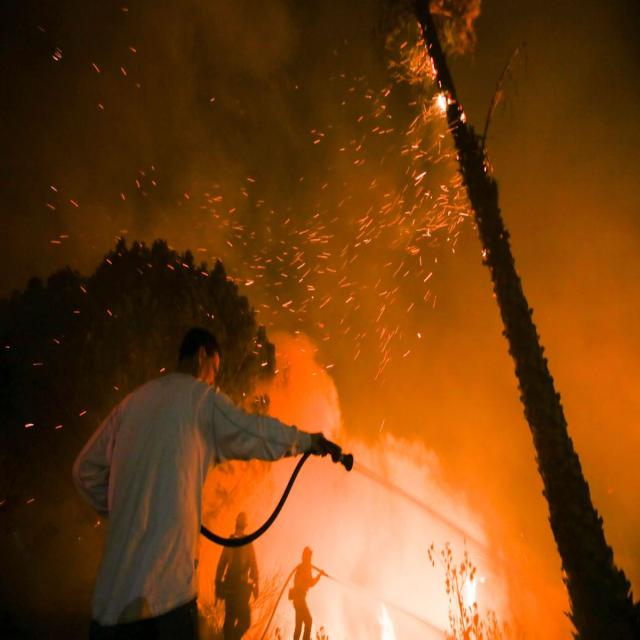Fire: (243, 445, 494, 640)
